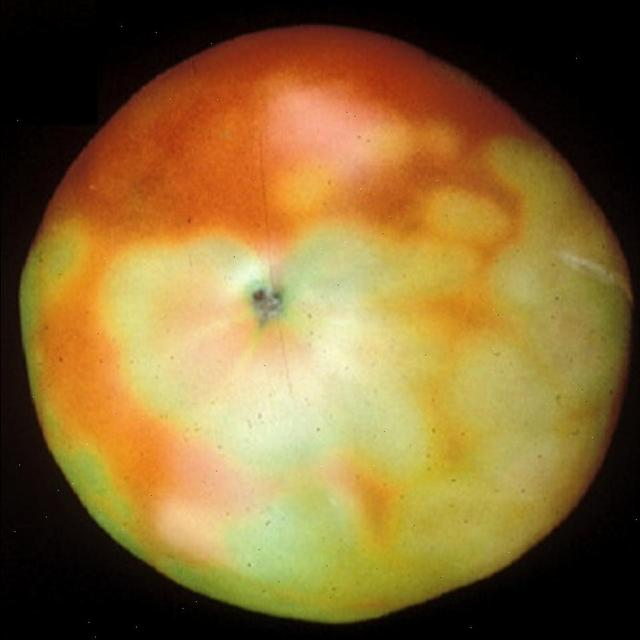Spotted wilt Virus Fruit: (45, 27, 91, 133)
